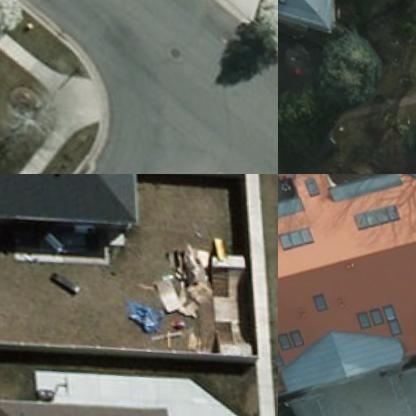car: (278, 394, 308, 415)
